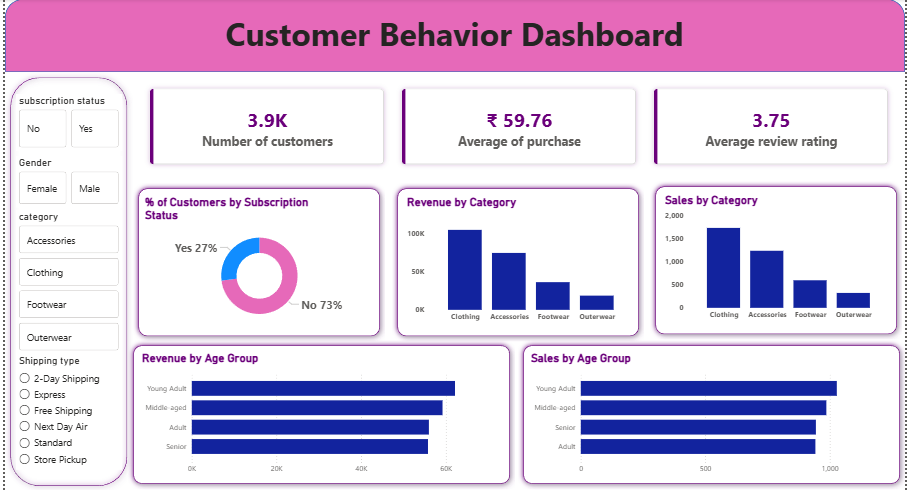

What the dashboard file says about the page in this screenshot:
{"tool":"powerbi","page":{"name":"Page 1","canvas":[1500,820],"ordinal":0},"visuals":[{"type":"cardVisual","fields":{"Data":["customer_behavior customer_data.Number of customers","customer_behavior customer_data.Average of purchase","customer_behavior customer_data.Average review rating"]},"box":[200.2,107.3,1299.8,211],"z":0},{"type":"shape","box":[0,0,1500,121.9],"z":1000},{"type":"textbox","box":[255.7,15.4,988.6,91],"z":2000},{"type":"shape","box":[213.3,307.3,420.5,264.3],"z":3000},{"type":"donutChart","title":"% of Customers by Subscription Status","fields":{"Category":["customer_behavior customer_data.subscription_status"],"Y":["CountNonNull(customer_behavior customer_data.customer_id)"]},"box":[228.8,326.2,391.3,221.4],"z":4000},{"type":"shape","box":[1074.8,303.7,420.5,264.3],"z":5000},{"type":"shape","box":[645,307.3,420.5,264.3],"z":6000},{"type":"clusteredColumnChart","title":"Revenue by Category","fields":{"Y":["Sum(customer_behavior customer_data.purchase_amount)"],"Category":["customer_behavior customer_data.category"]},"box":[664.7,326.2,386.2,221.4],"z":7000},{"type":"clusteredColumnChart","title":"Sales by Category","fields":{"Y":["CountNonNull(customer_behavior customer_data.customer_id)"],"Category":["customer_behavior customer_data.category"]},"box":[1095.4,322.6,382.7,221.4],"z":8000},{"type":"shape","box":[0,121.6,212.8,699],"z":9000},{"type":"advancedSlicerVisual","fields":{"Values":["customer_behavior customer_data.subscription_status"]},"box":[17.9,159.1,177,94.8],"z":10000},{"type":"cardVisual","fields":{"Data":["customer_behavior customer_data.Number of customers","customer_behavior customer_data.Average of purchase","customer_behavior customer_data.Average review rating"]},"box":[212.8,121.6,1287.2,182.4],"z":11000},{"type":"advancedSlicerVisual","fields":{"Values":["customer_behavior customer_data.gender"]},"box":[17.9,261,177,85.8],"z":12000},{"type":"advancedSlicerVisual","fields":{"Values":["customer_behavior customer_data.category"]},"box":[17.9,352.2,177,239.6],"z":13000},{"type":"listSlicer","fields":{"Values":["customer_behavior customer_data.shipping_type"]},"box":[17.9,591.8,177,193.1],"z":14000},{"type":"shape","box":[205.6,568.5,645.4,248.5],"z":15000},{"type":"shape","box":[854.6,568.5,645.4,248.5],"z":16000},{"type":"clusteredBarChart","title":"Sales by Age Group","fields":{"Y":["CountNonNull(customer_behavior customer_data.customer_id)"],"Category":["customer_behavior customer_data.age_group"]},"box":[872.5,586.4,606.1,214.5],"z":17000},{"type":"clusteredBarChart","title":"Revenue by Age Group","fields":{"Y":["Sum(customer_behavior customer_data.purchase_amount)"],"Category":["customer_behavior customer_data.age_group"]},"box":[223.5,586.4,597.1,214.5],"z":18000}]}

Visuals, with their boxes in screenshot pixels (x1, y1, x2, y2), scaled from the page's 1500x820 canvas onto the 907x490 screenshot:
cardVisual - customer_behavior customer_data.Number of customers x customer_behavior customer_data.Average of purchase: BBox(121, 64, 906, 190)
shape: BBox(0, 0, 906, 73)
textbox: BBox(155, 9, 752, 64)
shape: BBox(129, 184, 383, 342)
"% of Customers by Subscription Status" donutChart: BBox(138, 195, 375, 327)
shape: BBox(650, 181, 904, 339)
shape: BBox(390, 184, 644, 342)
"Revenue by Category" clusteredColumnChart: BBox(402, 195, 635, 327)
"Sales by Category" clusteredColumnChart: BBox(662, 193, 894, 325)
shape: BBox(0, 73, 129, 489)
advancedSlicerVisual - customer_behavior customer_data.subscription_status: BBox(11, 95, 118, 152)
cardVisual - customer_behavior customer_data.Number of customers x customer_behavior customer_data.Average of purchase: BBox(129, 73, 906, 182)
advancedSlicerVisual - customer_behavior customer_data.gender: BBox(11, 156, 118, 207)
advancedSlicerVisual - customer_behavior customer_data.category: BBox(11, 210, 118, 354)
listSlicer - customer_behavior customer_data.shipping_type: BBox(11, 354, 118, 469)
shape: BBox(124, 340, 515, 488)
shape: BBox(517, 340, 906, 488)
"Sales by Age Group" clusteredBarChart: BBox(528, 350, 894, 479)
"Revenue by Age Group" clusteredBarChart: BBox(135, 350, 496, 479)
